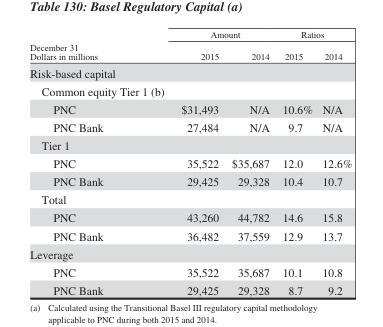table: (29, 28, 351, 296)
table column: (29, 28, 141, 296), (141, 28, 224, 296), (224, 28, 275, 296), (275, 28, 316, 296), (316, 28, 351, 296)
table column header: (29, 28, 351, 63)
table projected row header: (29, 63, 351, 81), (29, 81, 351, 99), (29, 136, 351, 154), (29, 190, 351, 208), (29, 244, 351, 262)
table row: (29, 44, 351, 63), (29, 99, 351, 118), (29, 63, 351, 81), (29, 81, 351, 99), (29, 118, 351, 136), (29, 136, 351, 154), (29, 154, 351, 172), (29, 172, 351, 190), (29, 190, 351, 208), (29, 208, 351, 226), (29, 226, 351, 244), (29, 244, 351, 262), (29, 262, 351, 280), (29, 28, 351, 44), (29, 280, 351, 296)
table spanning cell: (29, 28, 141, 63), (141, 28, 275, 44), (275, 28, 351, 44)
